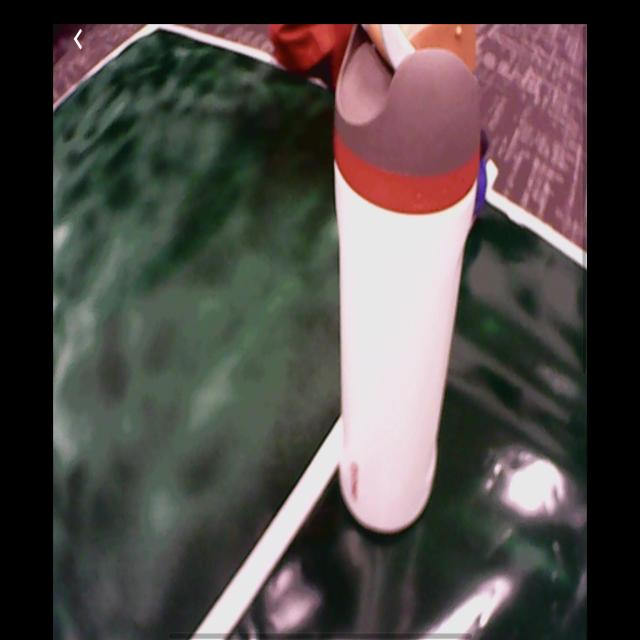ball: (472, 154, 489, 217)
